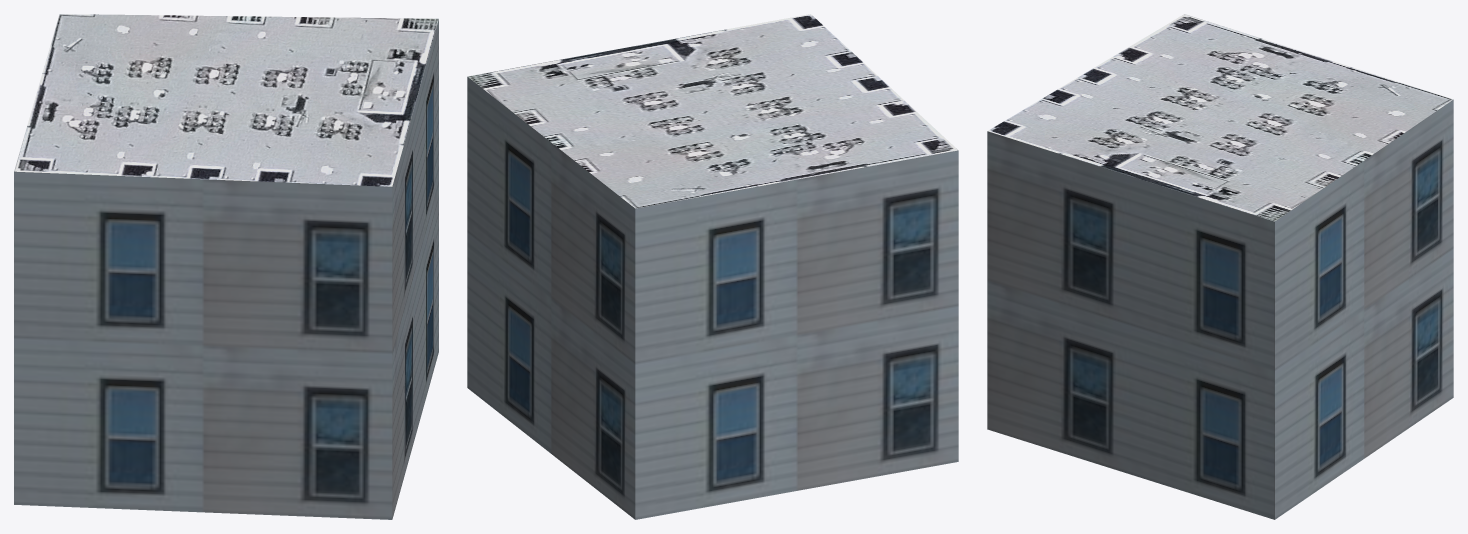
The model's file is ResTex__2692.fbx.
3 views of the same model, side by side, from view 1: azimuth 30°, elevation 25°; view 2: azimuth 150°, elevation 25°; view 3: azimuth 270°, elevation 25° (orthographic). The views are drawn at different scales.
Parts seen in each view (by area): view 1: CityEngineMaterial_18_m, CityEngineMaterial_8_m; view 2: CityEngineMaterial_18_m, CityEngineMaterial_8_m; view 3: CityEngineMaterial_18_m, CityEngineMaterial_8_m.
Boxes of the visible parts, x1,y1,x2,y2 form: CityEngineMaterial_18_m: [14, 19, 438, 519]; CityEngineMaterial_8_m: [14, 14, 438, 186]; CityEngineMaterial_18_m: [467, 77, 958, 519]; CityEngineMaterial_8_m: [467, 14, 958, 208]; CityEngineMaterial_18_m: [987, 99, 1453, 519]; CityEngineMaterial_8_m: [987, 14, 1453, 221].
Bounding box in the file's own units: 8.96 × 6 × 8.5.
2 materials, 2 textured.
